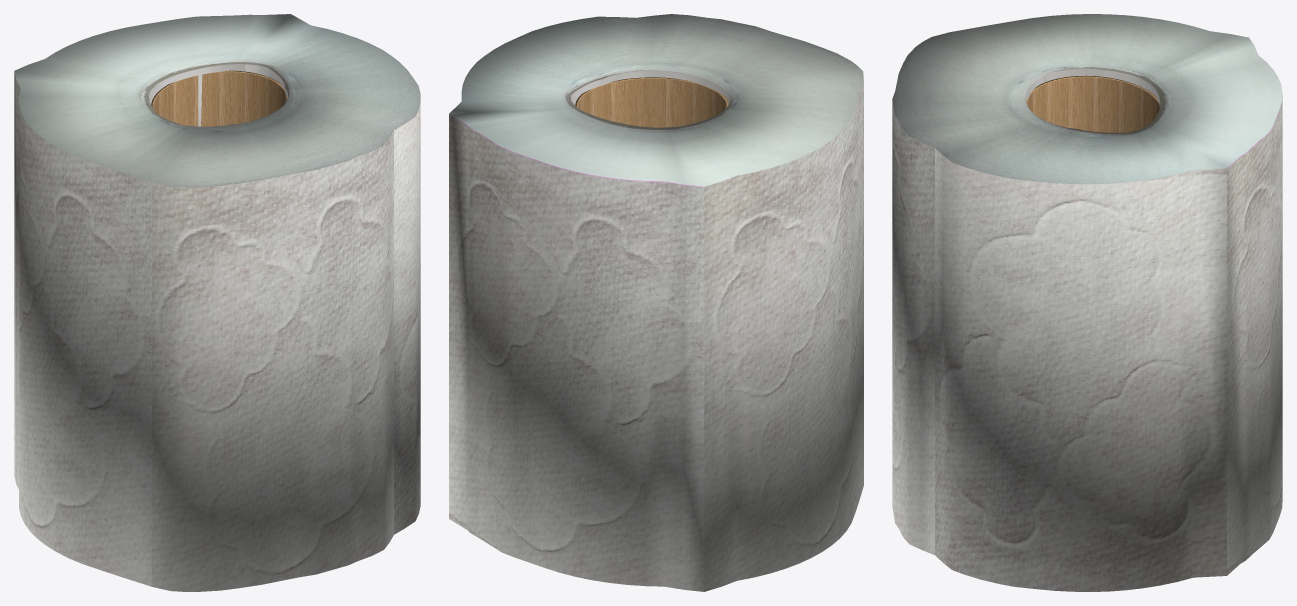
File: Papertoilet.fbx
The picture shows the model from 3 angles, left to right: view 1: azimuth 30°, elevation 25°; view 2: azimuth 150°, elevation 25°; view 3: azimuth 270°, elevation 25°; orthographic projection.
Parts seen in each view (by area): view 1: PaperToilet, Cardboard; view 2: PaperToilet, Cardboard; view 3: PaperToilet, Cardboard.
Part boxes in pixels (left/top/right/bottom): PaperToilet: left=14, top=14, right=420, bottom=591; Cardboard: left=151, top=70, right=287, bottom=126; PaperToilet: left=449, top=14, right=863, bottom=591; Cardboard: left=575, top=77, right=728, bottom=127; PaperToilet: left=892, top=14, right=1282, bottom=591; Cardboard: left=1026, top=75, right=1159, bottom=132.
Bounding box in the file's own units: 212 × 236 × 205.
